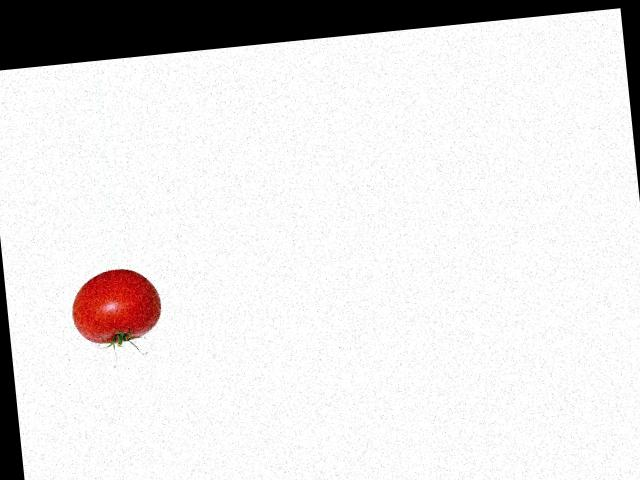tomato: (67, 265, 163, 347)
